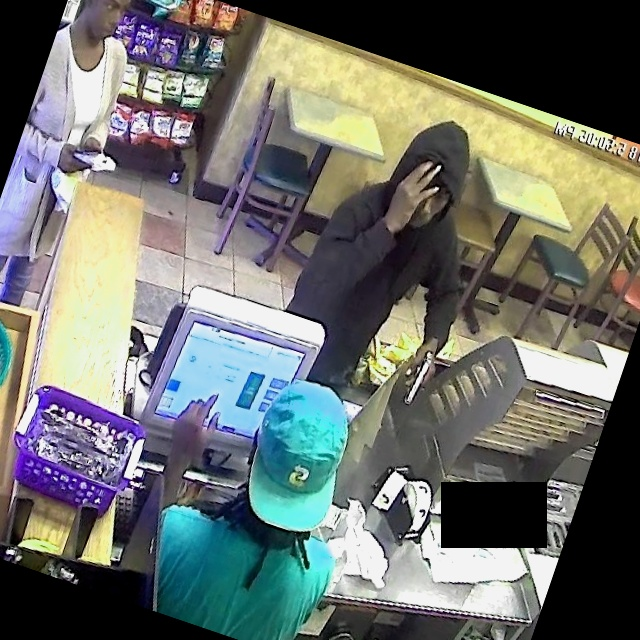gun: (392, 342, 447, 415)
